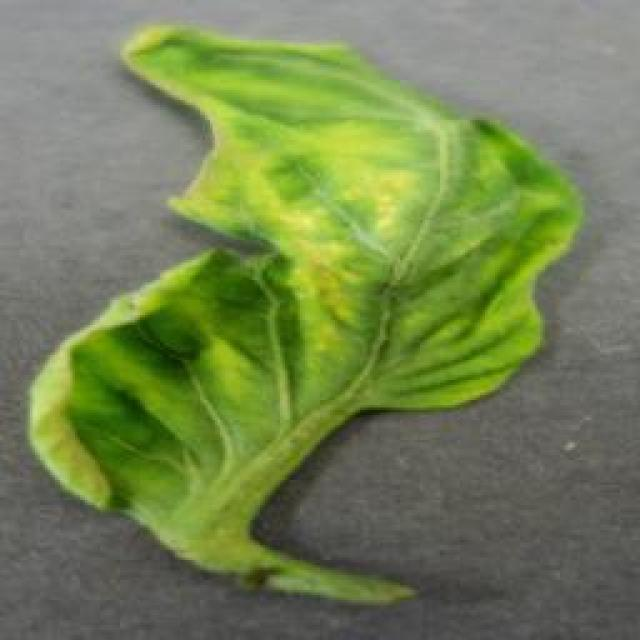Tomato yellow virus leaf: (26, 20, 578, 542)
